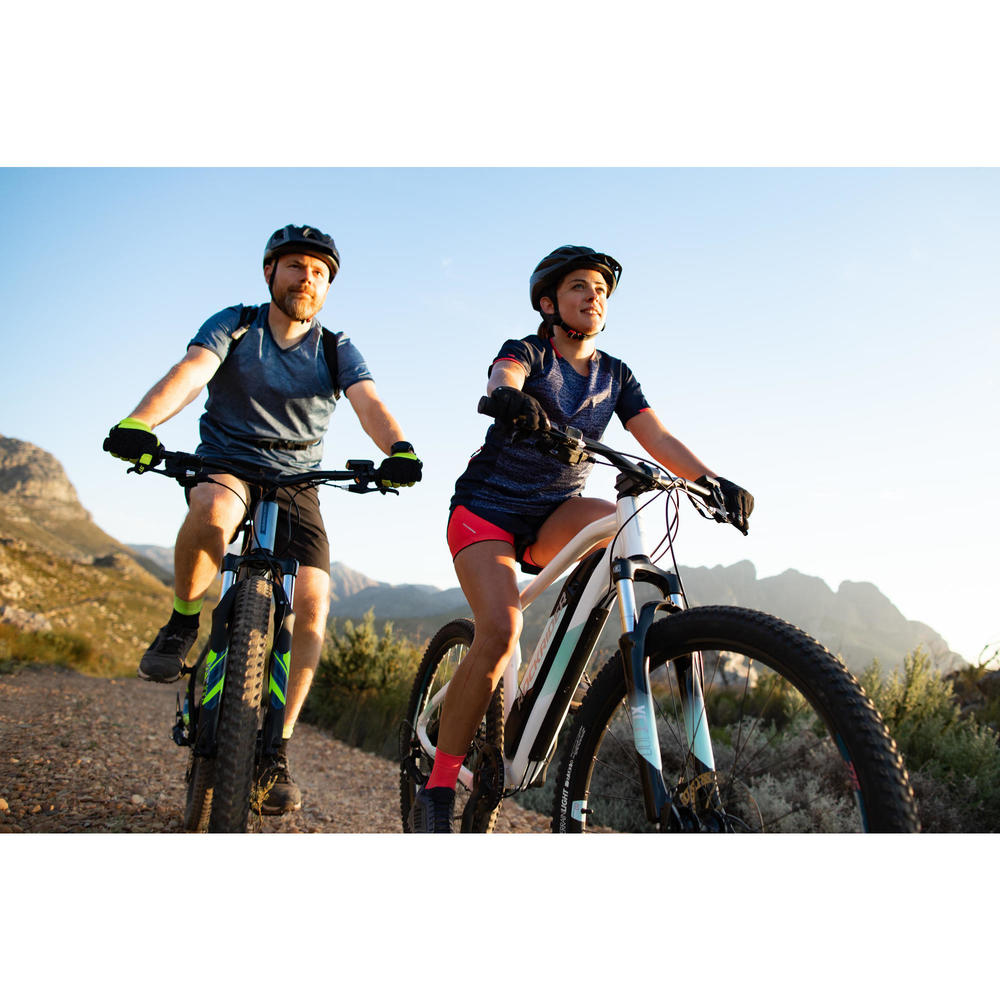MountainBike: (406, 429, 919, 849), (91, 417, 422, 843)
